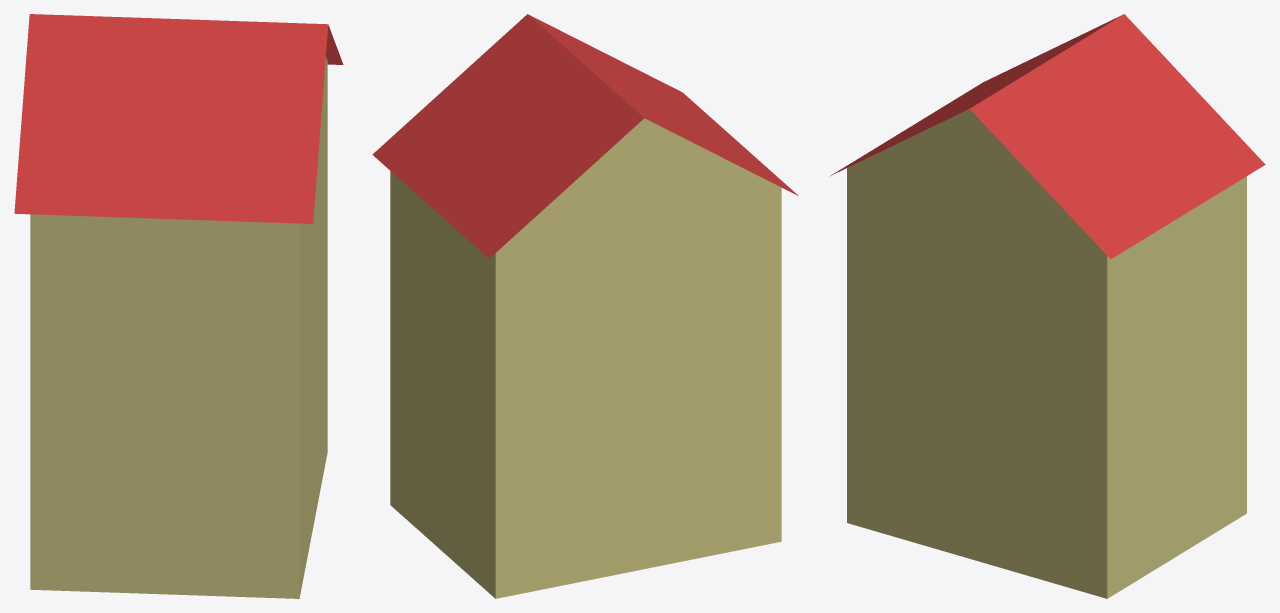
3 views of the same model, side by side, from view 1: azimuth 30°, elevation 25°; view 2: azimuth 150°, elevation 25°; view 3: azimuth 270°, elevation 25° (orthographic). The views are drawn at different scales.
Visible parts, largest first — view 1: group_5, group_3, group_4; view 2: group_5, group_3, group_4; view 3: group_5, group_3.
Boxes of the visible parts, x1,y1,x2,y2 form: group_5: [30, 57, 327, 598]; group_3: [14, 14, 327, 223]; group_4: [29, 14, 343, 223]; group_5: [390, 28, 781, 598]; group_3: [372, 14, 798, 258]; group_4: [528, 14, 704, 126]; group_5: [847, 109, 1246, 598]; group_3: [834, 14, 1265, 259].
Size of the model in its own units: 15.55 by 16.22 by 18.69.
